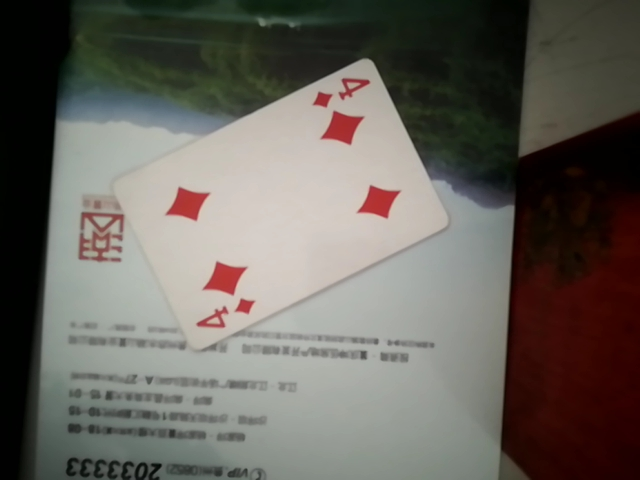fk 4: (76, 47, 446, 349)
